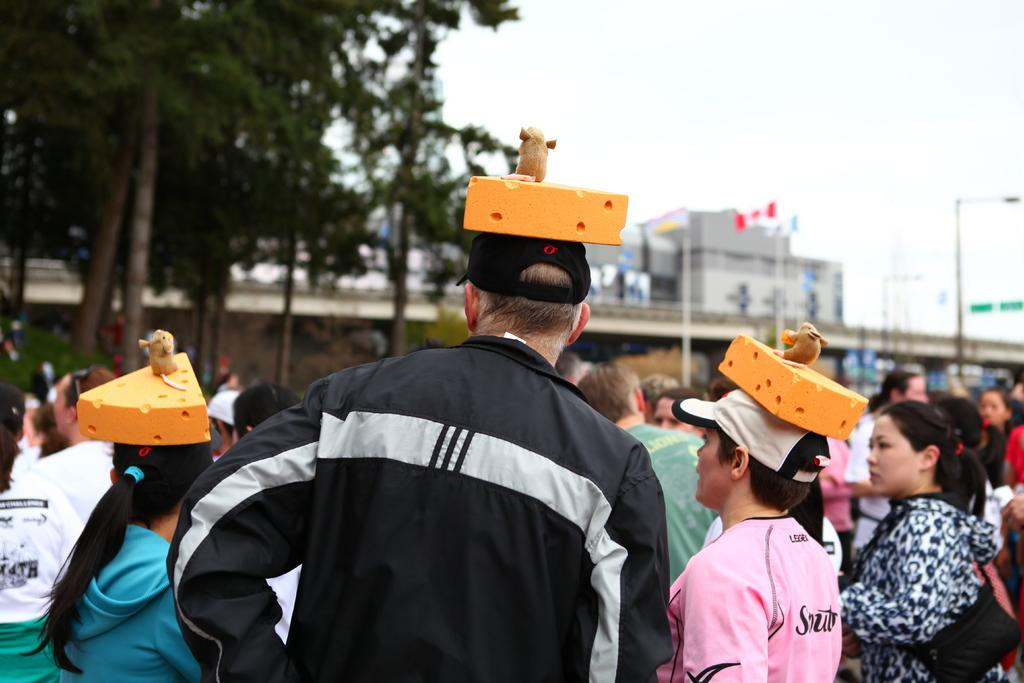Hat: (672, 384, 832, 485)
